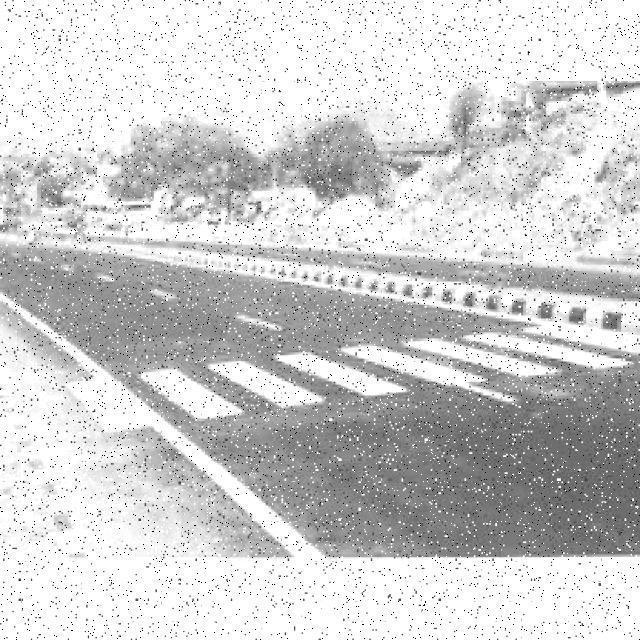crosswalk: (65, 321, 640, 434)
